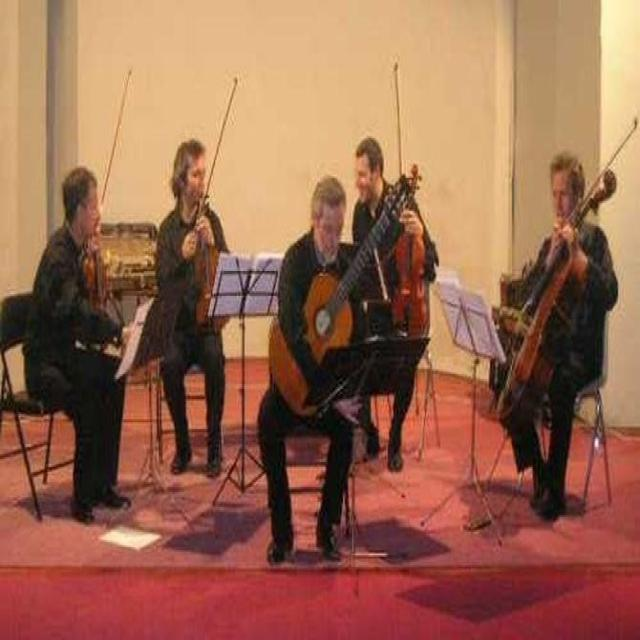cello: (497, 168, 627, 425)
guitar: (265, 174, 416, 420)
violin: (185, 192, 228, 338), (396, 198, 430, 340), (87, 237, 114, 321)
